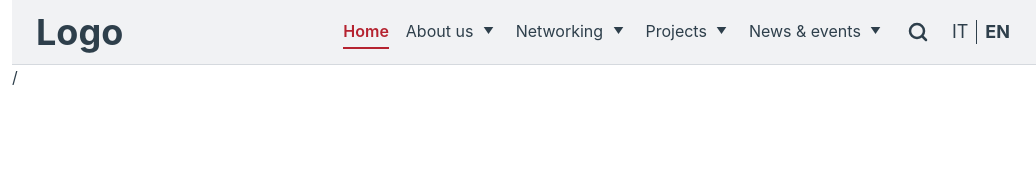
Test case: dropdown items scroll targets (en) › /networking › clicking "Visiting scholars" navigates to the page with its #hash and closes the dropdown
The image size is (1036, 183).
Click the button named "Networking submenu" at (618, 31), box [608,19,628,43]
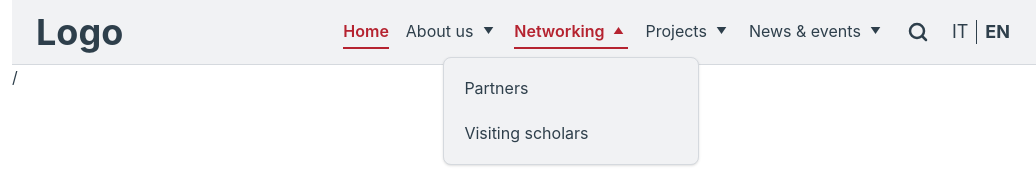
Click the link "Visiting scholars" at (526, 133), box [464,123,588,143]
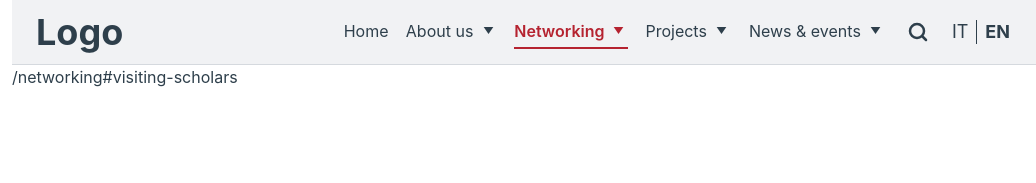
Expected: the text with test id "location" reads "/networking#visiting-scholars", [12,67,238,87]
